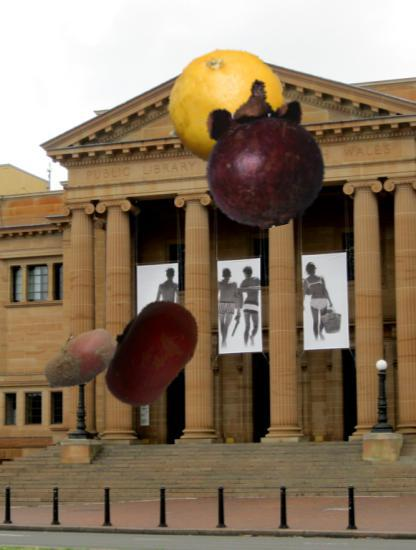Grapefruit: (163, 47, 287, 171)
Mangostan: (187, 79, 336, 228)
Nectarine: (96, 297, 210, 411)
Potato: (37, 316, 121, 400)
